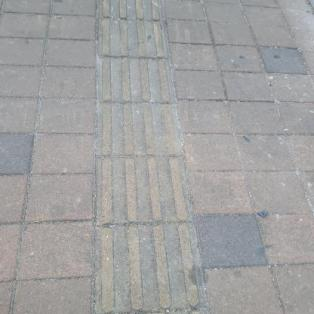Podoctatil: (84, 0, 214, 313)
